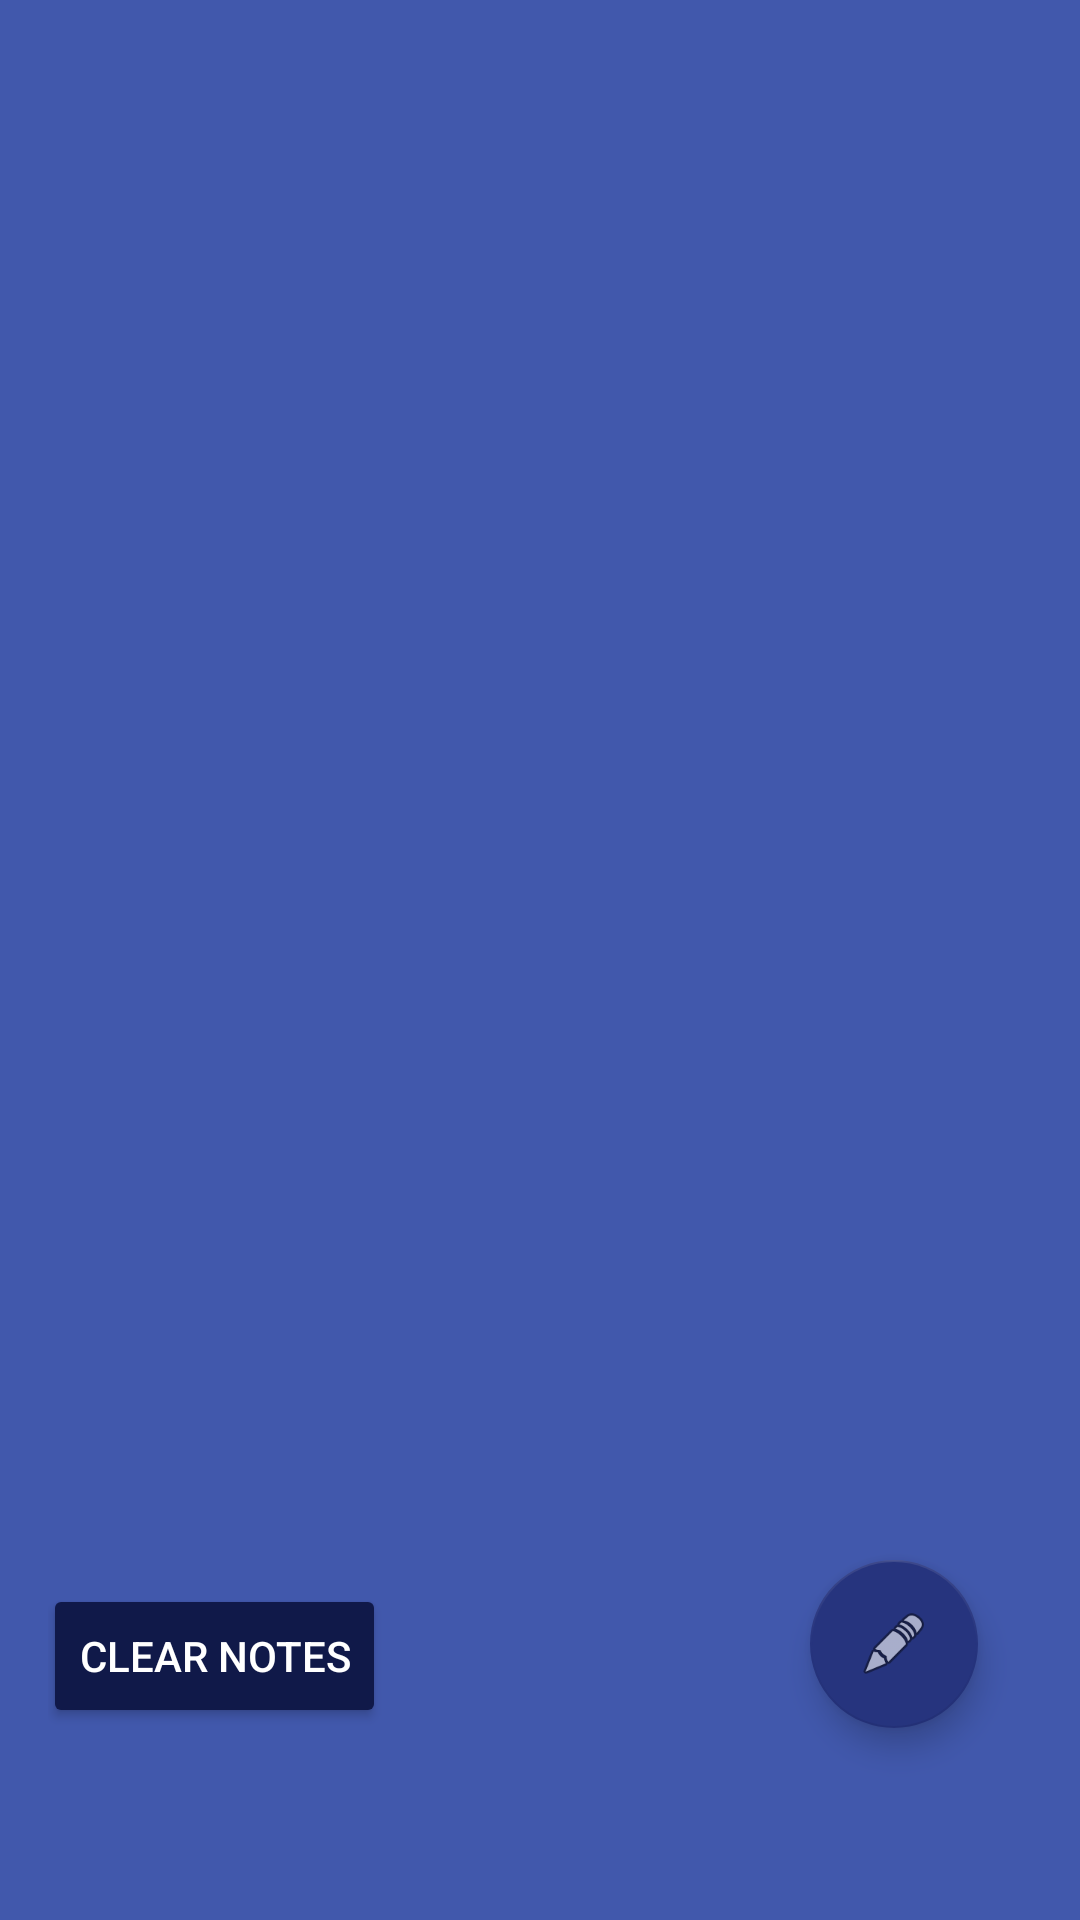

Named icons in this screenshot (1080w x 1920h) and their bounding boxes, {"x1": x1, "y1": y1, "x2": x2, "y2": y2}:
edit: {"x1": 810, "y1": 1560, "x2": 978, "y2": 1728}
